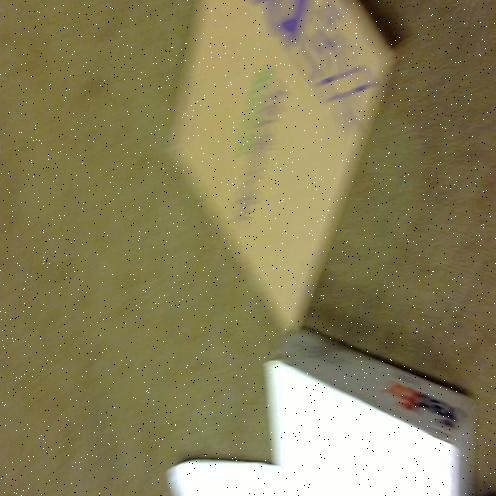Amazon: (163, 0, 379, 328), (264, 337, 477, 496)
